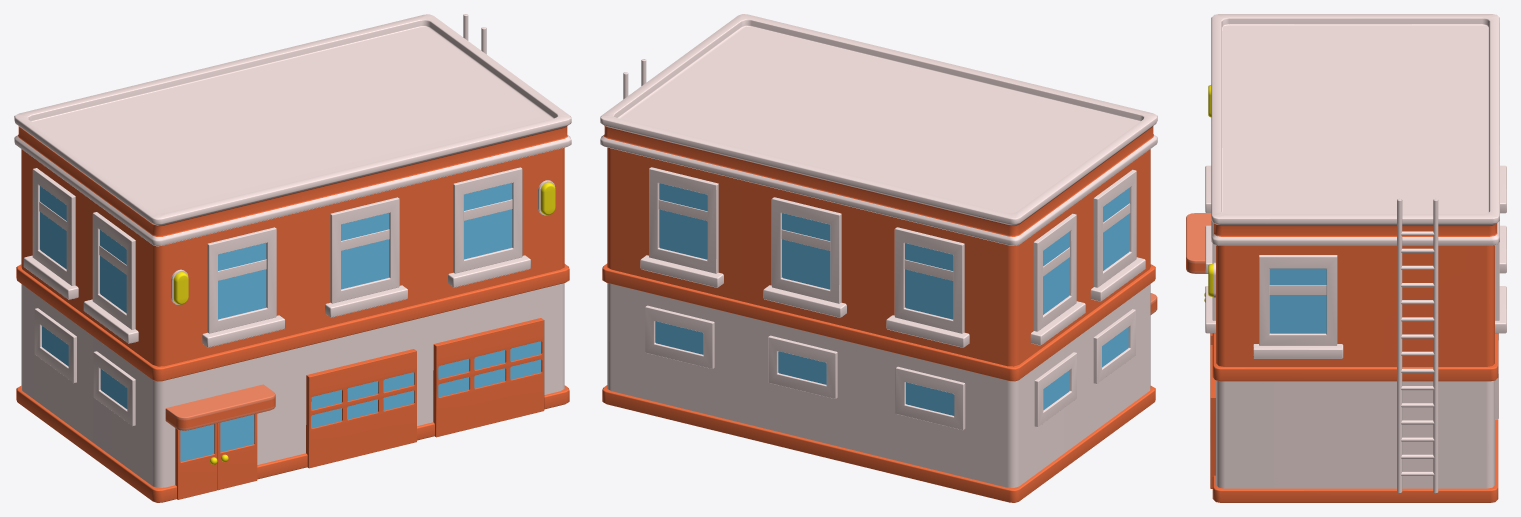
File: Public_11_Fire_Station_1.glb
The picture shows the model from 3 angles, left to right: view 1: azimuth 30°, elevation 25°; view 2: azimuth 150°, elevation 25°; view 3: azimuth 270°, elevation 25°; orthographic projection.
Visible parts, largest first — view 1: Public_11_Fire_Station_1; view 2: Public_11_Fire_Station_1; view 3: Public_11_Fire_Station_1.
Boxes of the visible parts, bbox=[...] form: Public_11_Fire_Station_1: bbox=[14, 14, 571, 502]; Public_11_Fire_Station_1: bbox=[600, 14, 1157, 502]; Public_11_Fire_Station_1: bbox=[1186, 14, 1506, 502].
Bounding box in the file's own units: 15.81 × 10.7 × 10.16.
1 material, 1 textured.
